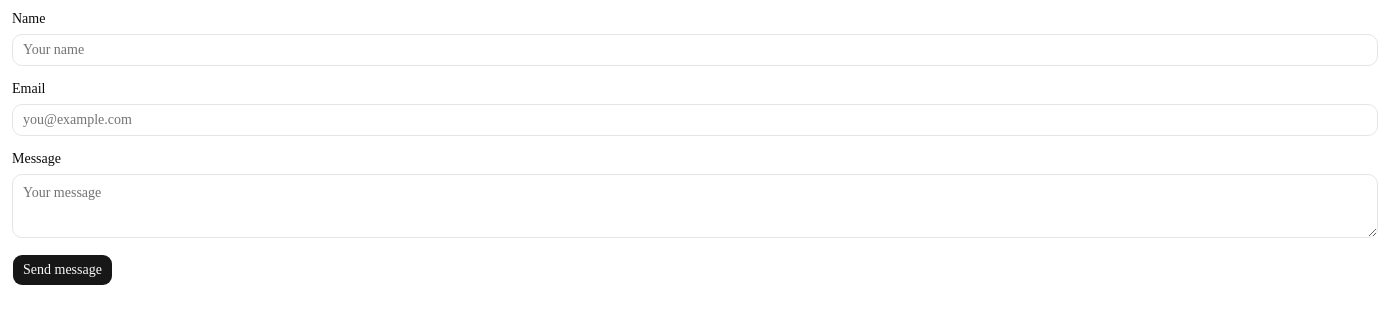
Test: ContactForm › rejects an invalid email format
Type "Alice" into the field labelled "Name" at (695, 50), box [12,34,1378,66]
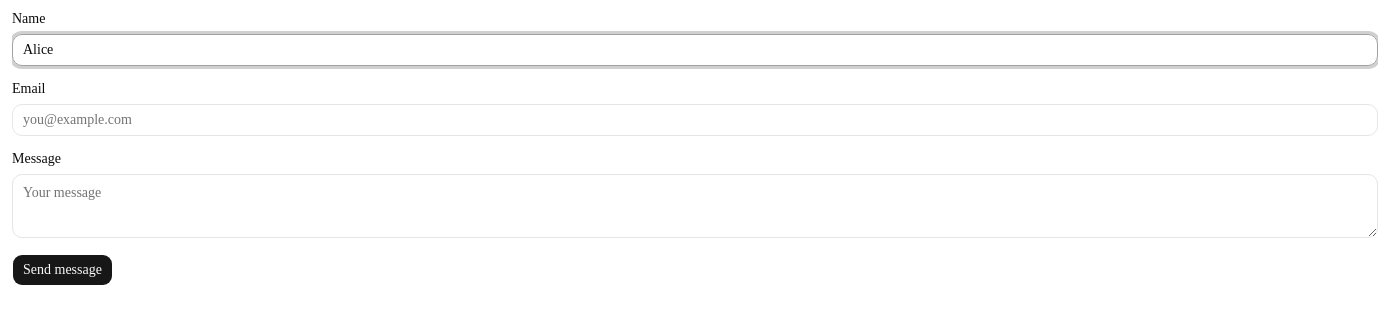
Type "not-an-email" into the field labelled "Email" at (695, 120), box [12,104,1378,136]
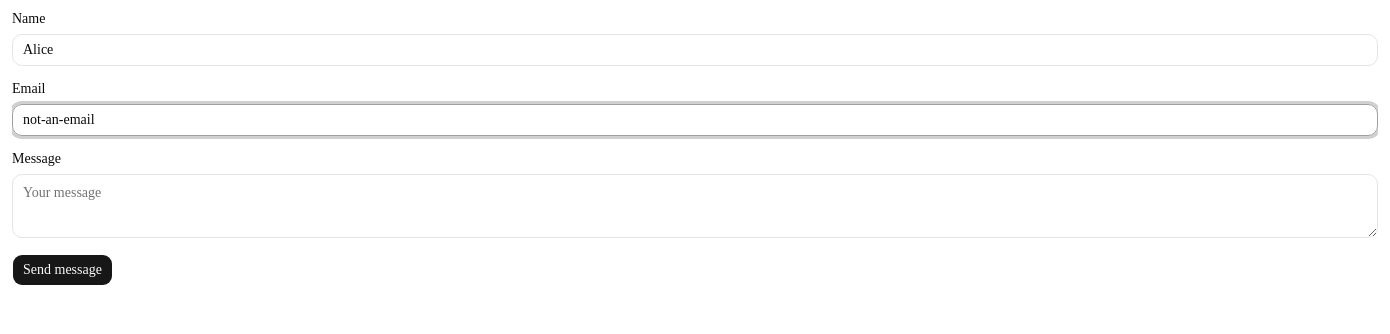
Type "Hello" into the text box labelled "Message" at (695, 206), box [12,174,1378,238]
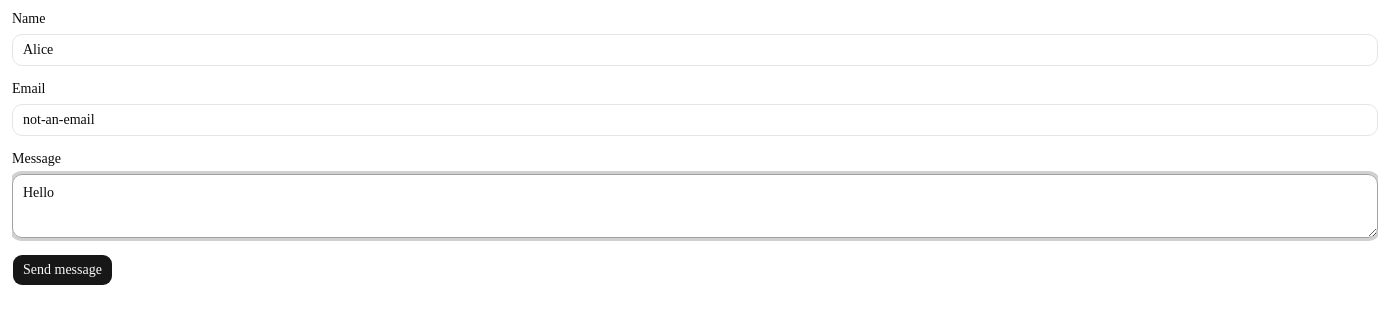
Click the button "Send message" at (62, 270), box [12,254,113,286]
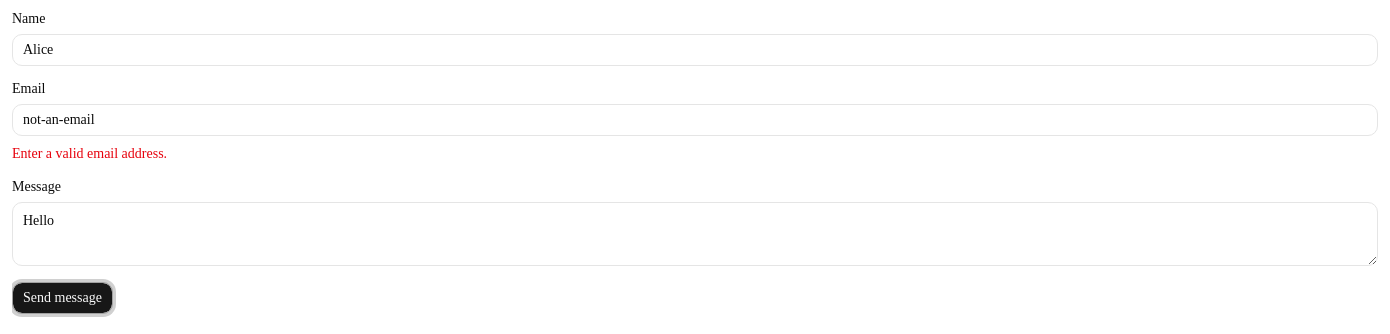
Expected: the text "Enter a valid email address." is shown, [12,146,167,161]
